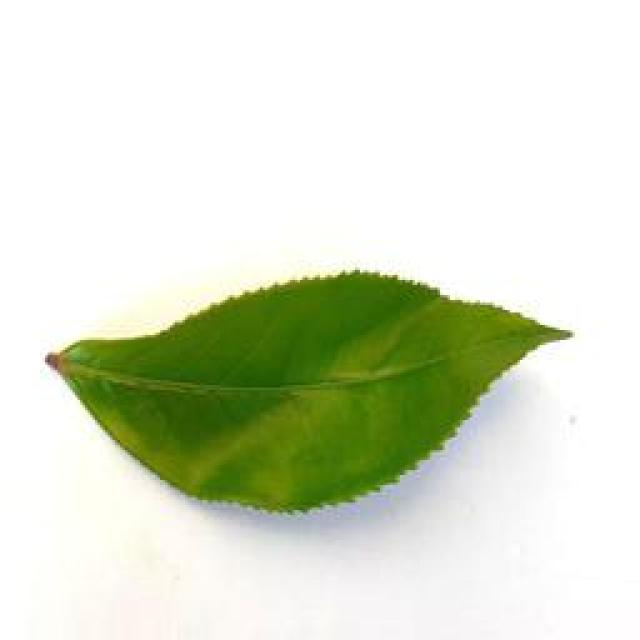Healthy: (31, 258, 578, 522)
